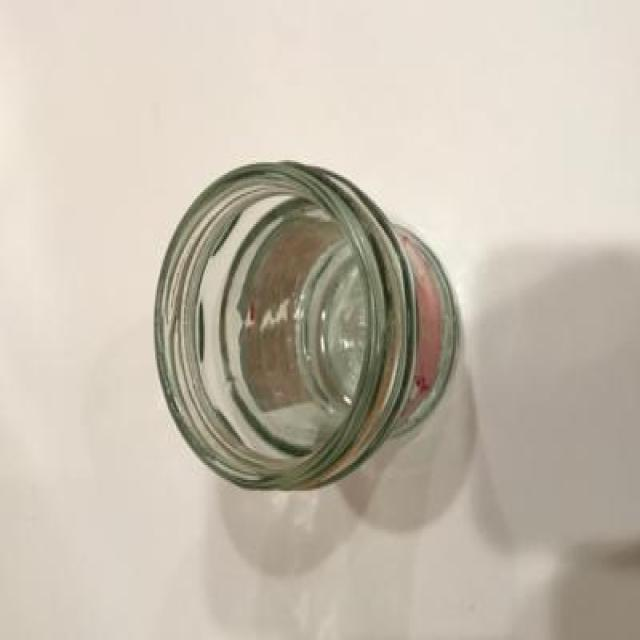glass: (154, 152, 467, 499)
